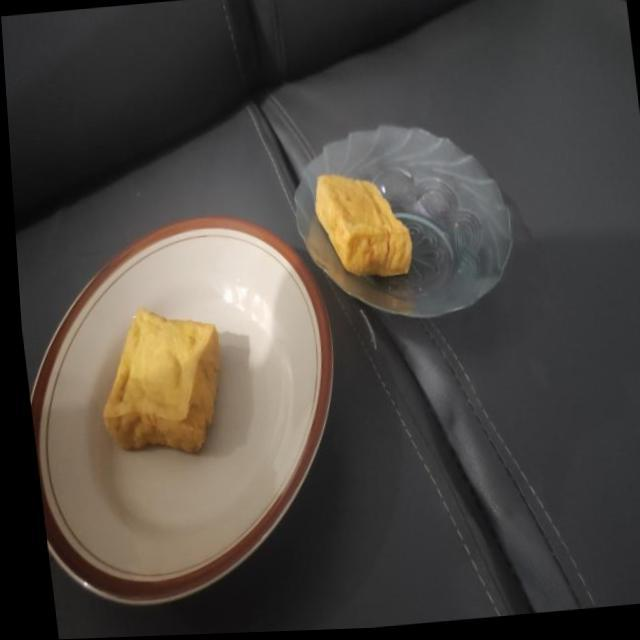tahu_goreng: (103, 309, 220, 453), (315, 175, 412, 276)
